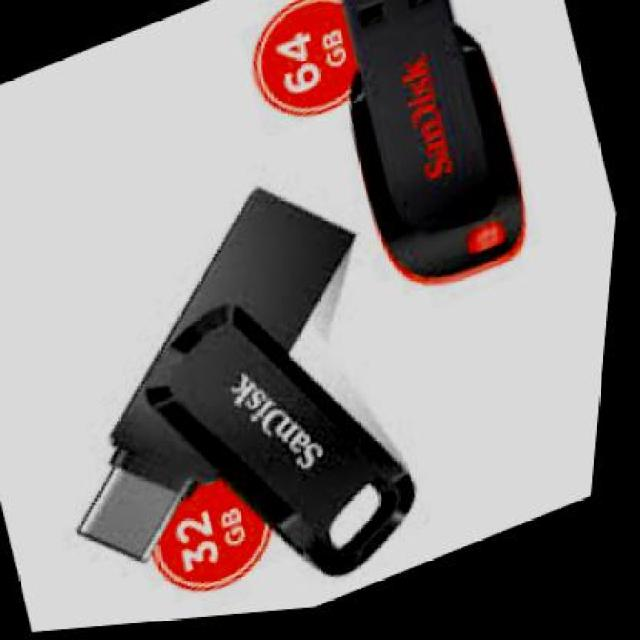Flashdisk: (286, 0, 568, 328)
